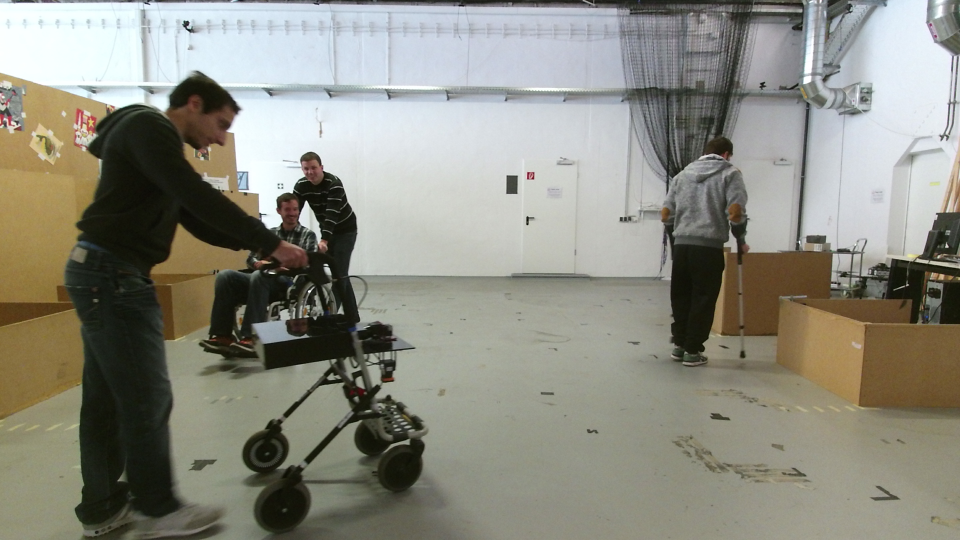crutches: (652, 133, 748, 373)
